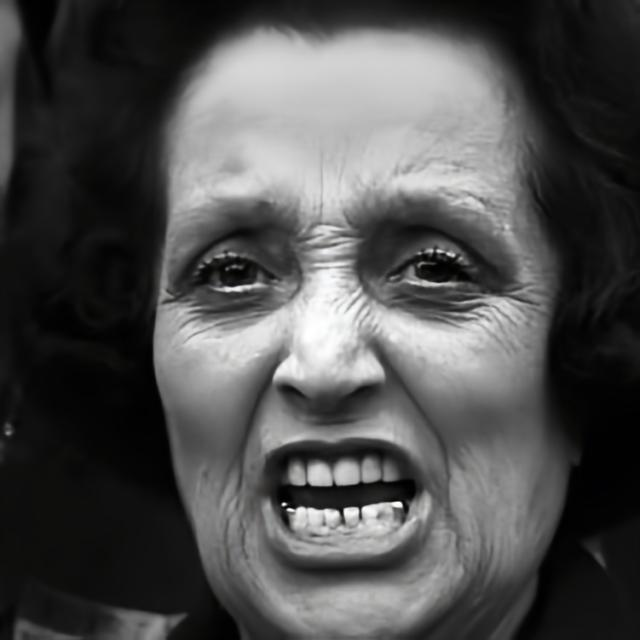anger: (143, 34, 570, 638)
